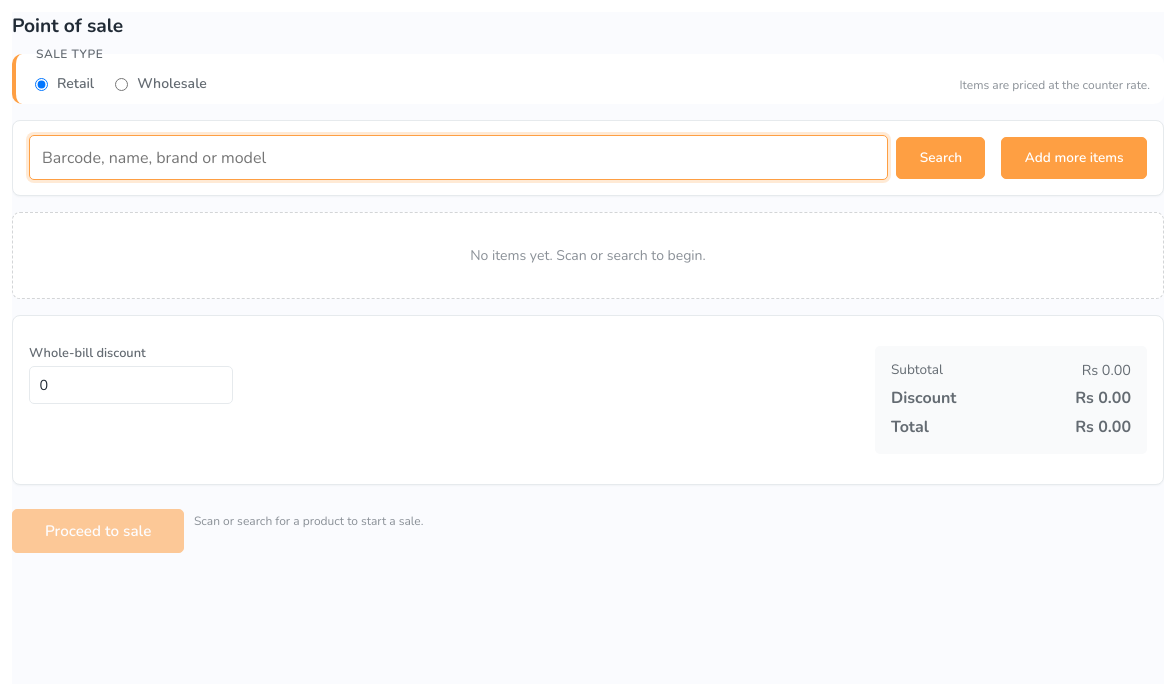
Test case: PosPage lookup › offers what the improved search found, without adding it
This screenshot has width=1164, height=684.
In the field named "scan or search": [459, 158] box [29, 135, 888, 180], type "c type"
Then press Enter
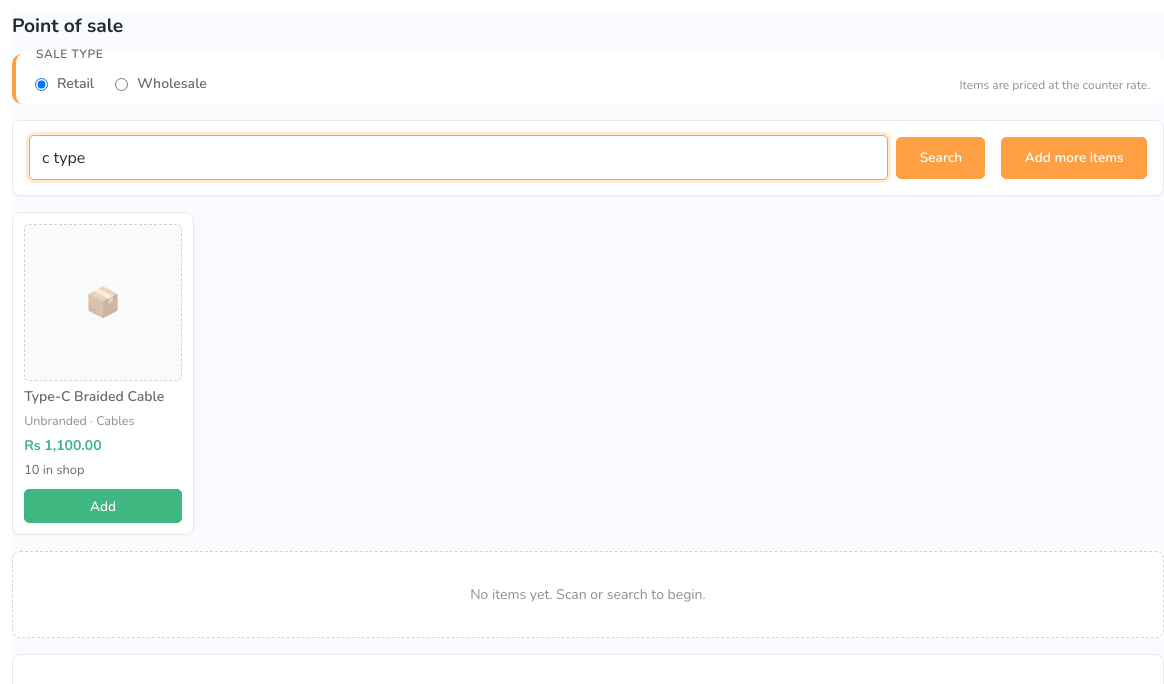
Now the text "Type-C Braided Cable" is shown, box [24, 386, 182, 407]
Now the list item with test id "pos-result-1" is shown, box [12, 212, 194, 535]
